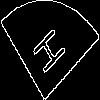H: (25, 25, 68, 83)
